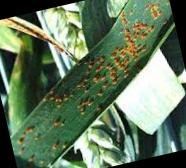Wheat: (44, 13, 154, 127)
